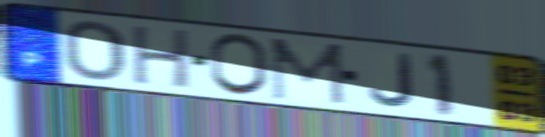1: (421, 51, 459, 118)
H: (130, 24, 193, 92)
J: (367, 52, 418, 110)
M: (268, 36, 349, 108)
O: (208, 31, 271, 99), (61, 19, 127, 83)
